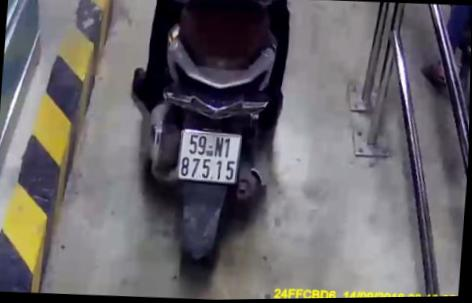LP: (174, 130, 245, 185)
